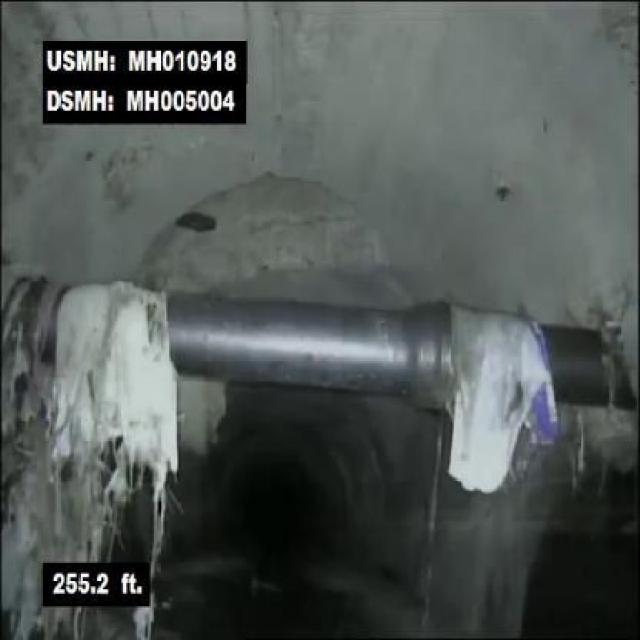Utility intrusion: (5, 268, 637, 417)
